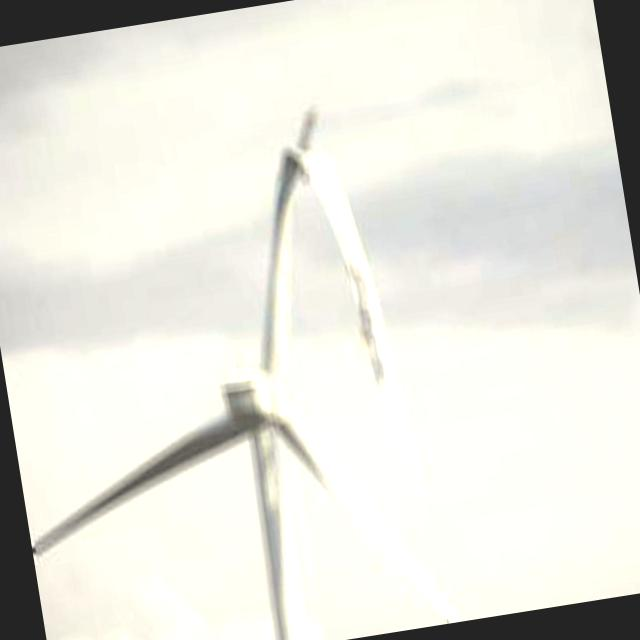crack: (250, 84, 444, 512)
